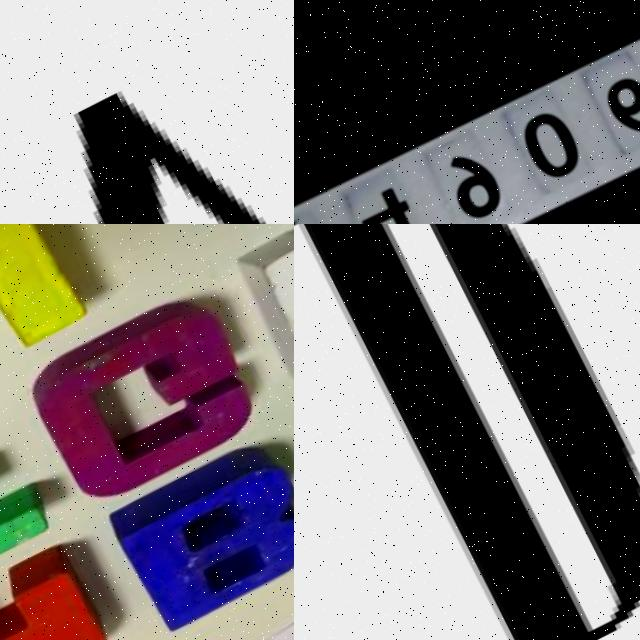0: (501, 95, 592, 201)
4: (338, 169, 435, 224)
6: (584, 62, 640, 159)
9: (423, 135, 512, 224)
A: (0, 540, 125, 640)
B: (101, 442, 294, 636)
D: (294, 224, 640, 640)
F: (0, 391, 55, 622)
G: (25, 283, 272, 508)
L: (0, 224, 230, 363)
W: (0, 4, 294, 224)
